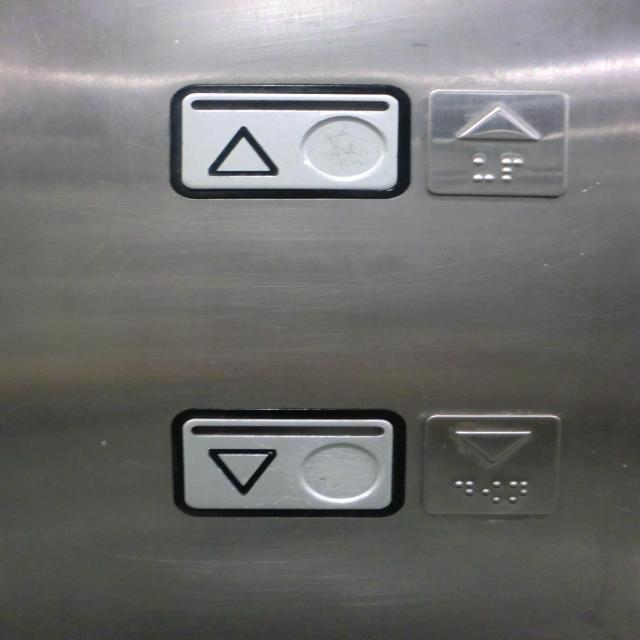down: (165, 400, 410, 520), (414, 402, 576, 528)
up: (163, 77, 413, 206), (417, 80, 579, 206)
